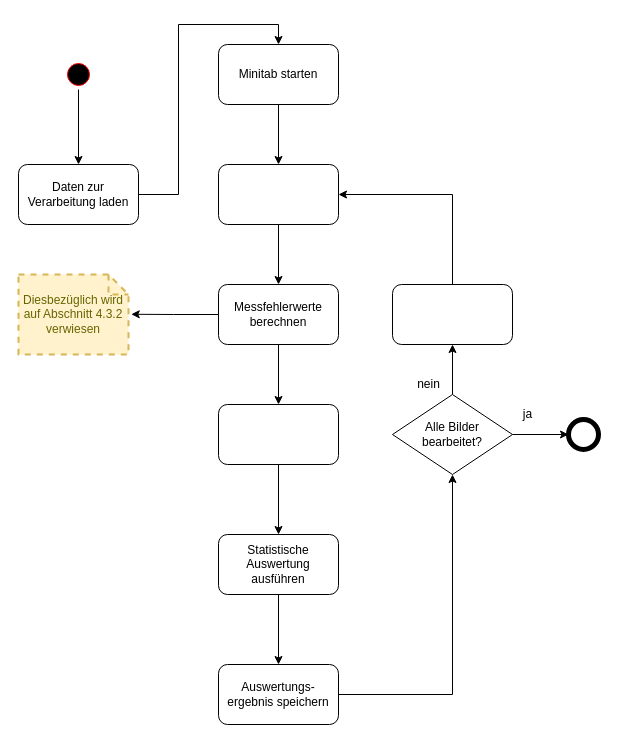
This 618x742 diagram has some shape labels left out. Each missing label, with the centre of its shape:
"Auswertungsvorlage laden" belongs at point (278, 194).
"Auswertungsvorlage schließen" belongs at point (452, 314).
"Berechnete Werte in die Vorlage schreiben" belongs at point (278, 434).
